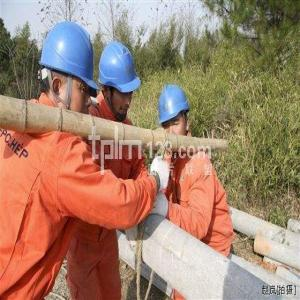blue: (40, 19, 94, 122), (98, 38, 136, 119), (157, 84, 189, 142)
